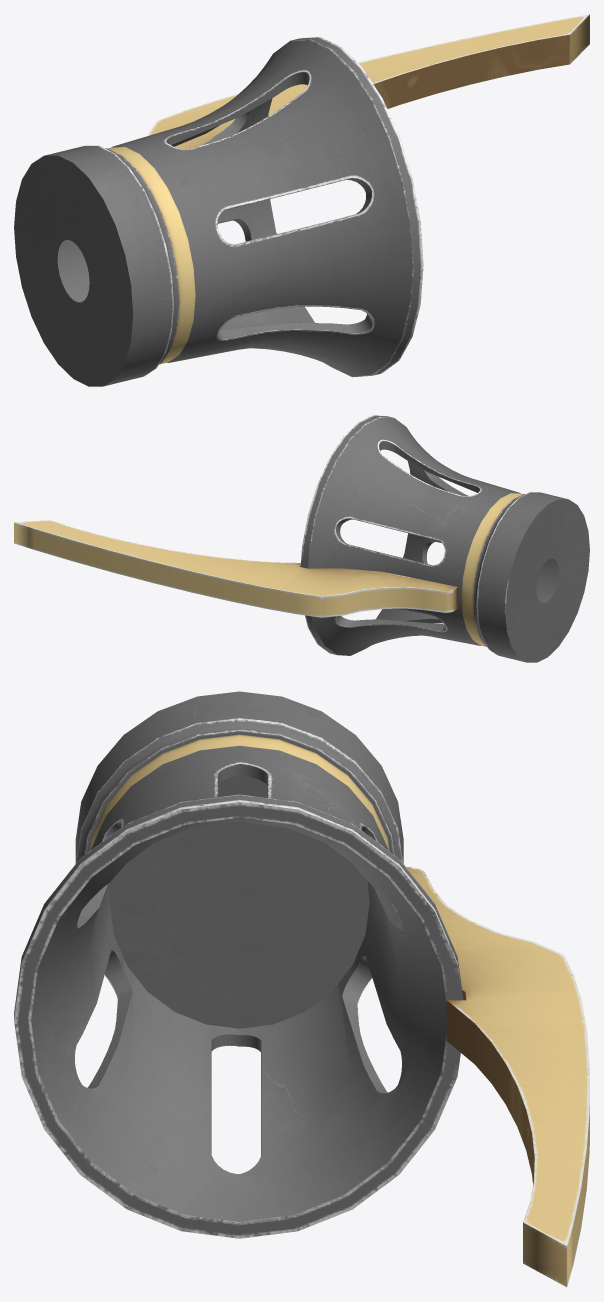
Rendered from guard_20_r_b.glb.
3 views of the same model, one above another, from view 1: azimuth 30°, elevation 25°; view 2: azimuth 150°, elevation 25°; view 3: azimuth 270°, elevation 25° (orthographic). The views are drawn at different scales.
Visible parts, largest first — view 1: guard_20_r_b_lod0; view 2: guard_20_r_b_lod0; view 3: guard_20_r_b_lod0.
Boxes of the visible parts, bbox=[...] form: guard_20_r_b_lod0: bbox=[14, 14, 589, 386]; guard_20_r_b_lod0: bbox=[14, 415, 589, 662]; guard_20_r_b_lod0: bbox=[14, 691, 589, 1287].
Size of what is drawn, in the model's own units: 0.0892 by 0.0426 by 0.0509.
1 material, 1 textured.
